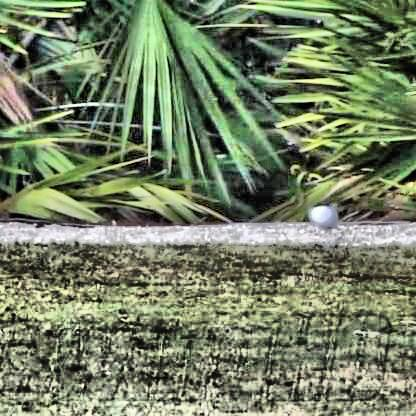golfball: (304, 202, 337, 230)
